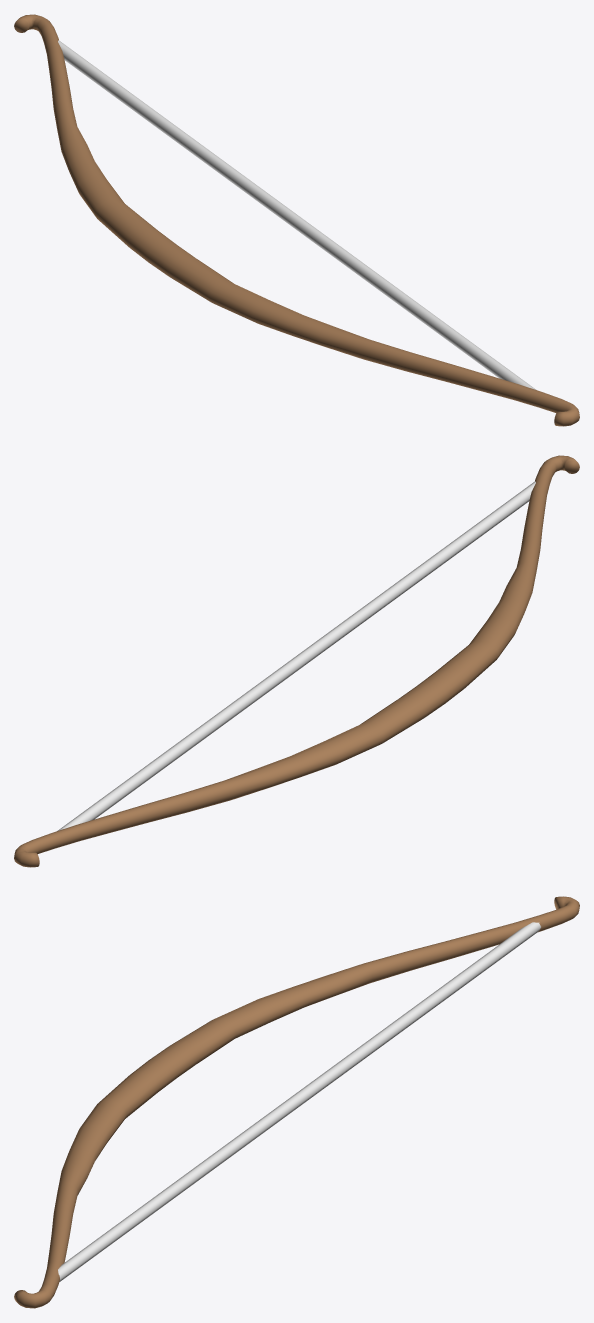
File: Bow.fbx
3 views of the same model, one above another, from view 1: azimuth 30°, elevation 25°; view 2: azimuth 150°, elevation 25°; view 3: azimuth 330°, elevation 25° (orthographic).
Visible parts, largest first — view 1: Bow; view 2: Bow; view 3: Bow.
Part boxes in pixels (box(x1,y1,x2,y2)): Bow: box(14, 14, 579, 426); Bow: box(14, 455, 579, 867); Bow: box(14, 896, 579, 1308).
Bounding box in the file's own units: 26.39 × 3.53 × 150.
